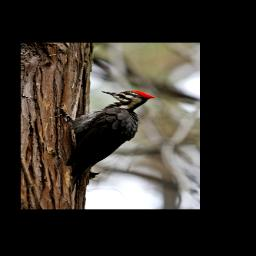Woodpecker: (56, 90, 156, 192)
